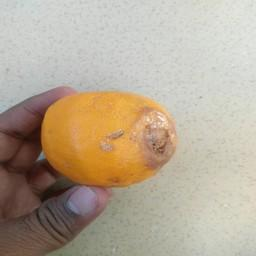Bad_orange: (39, 86, 180, 191)
